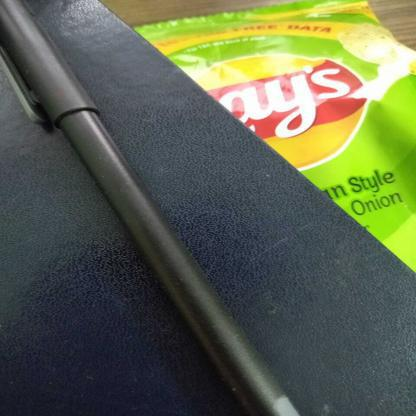cream_and_onion: (135, 0, 412, 274)
